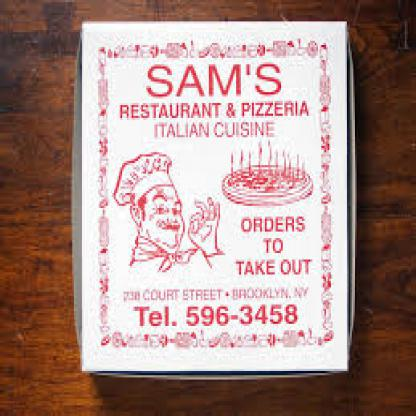CARDBOARD: (69, 17, 357, 375)
